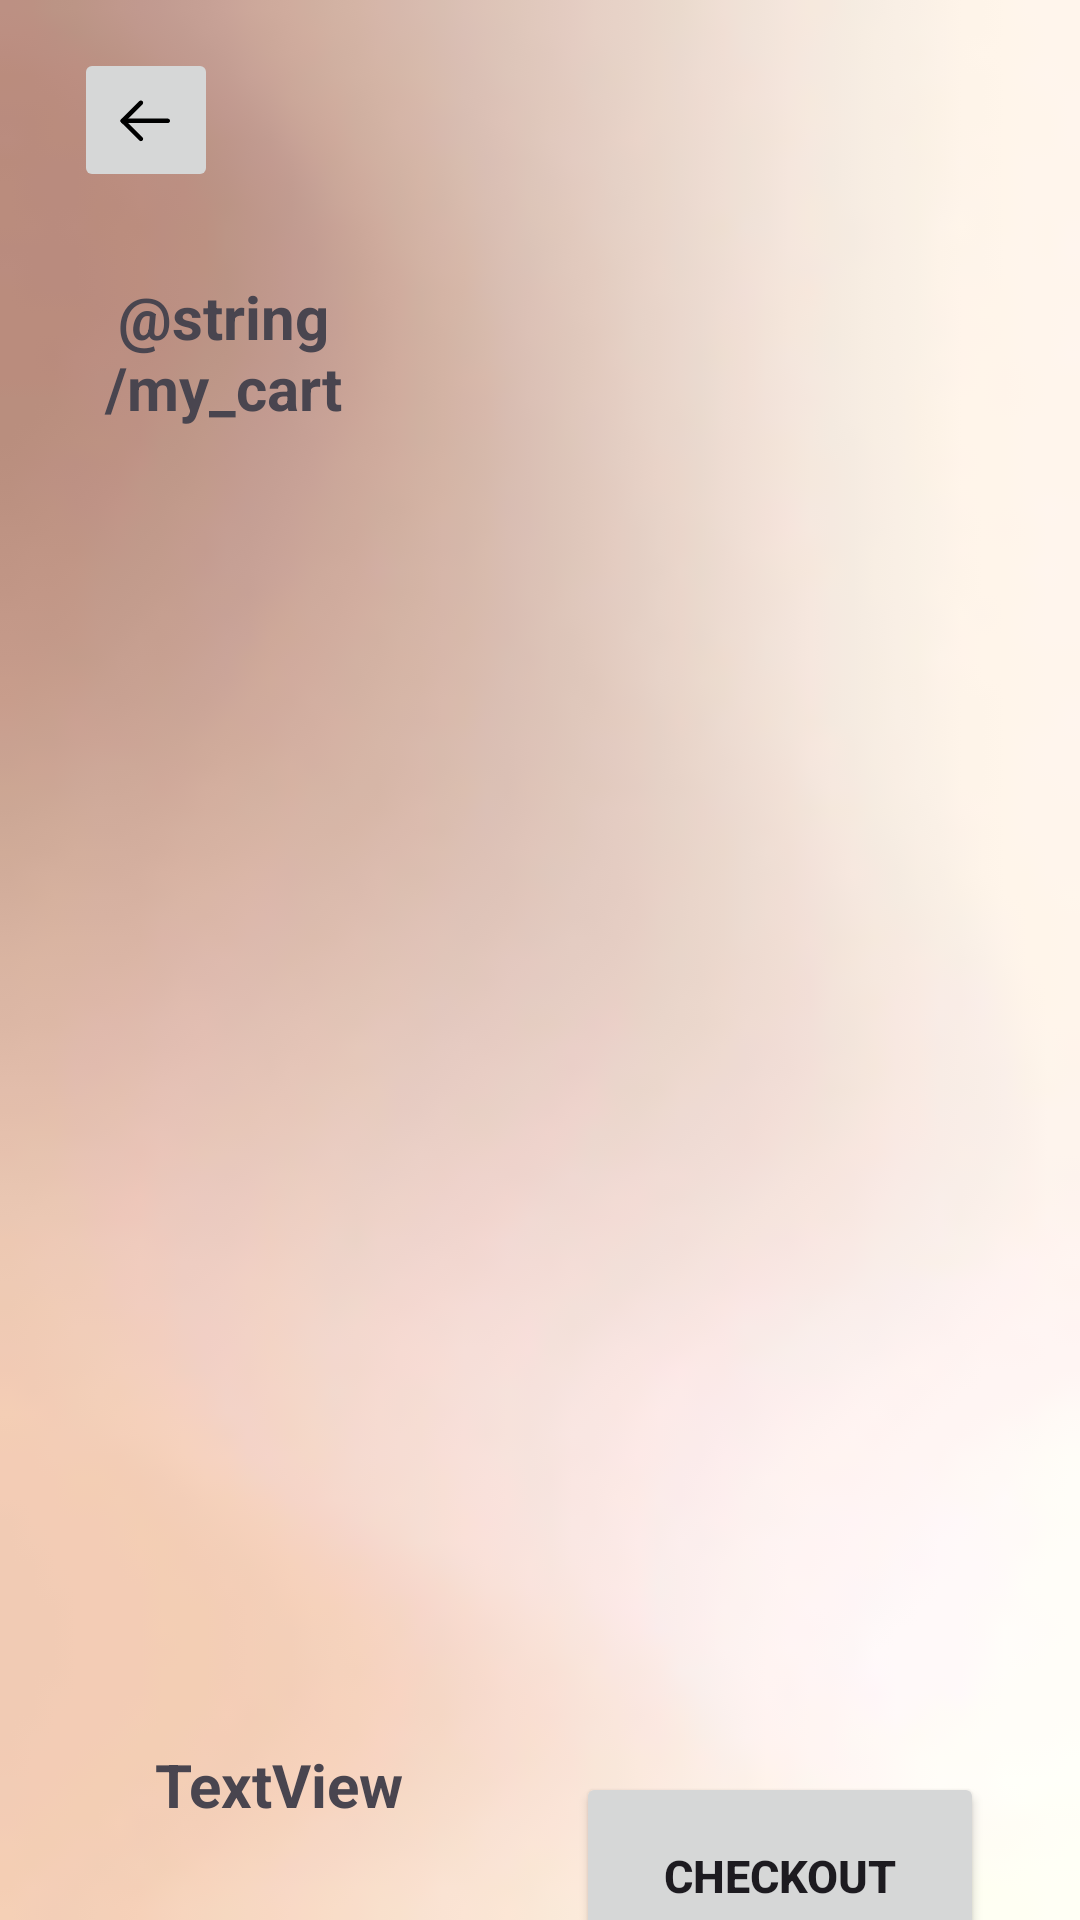

Where to tap for icons on this 1080x1920 app screen, as point (x, y):
leftarrow: point (146, 120)
